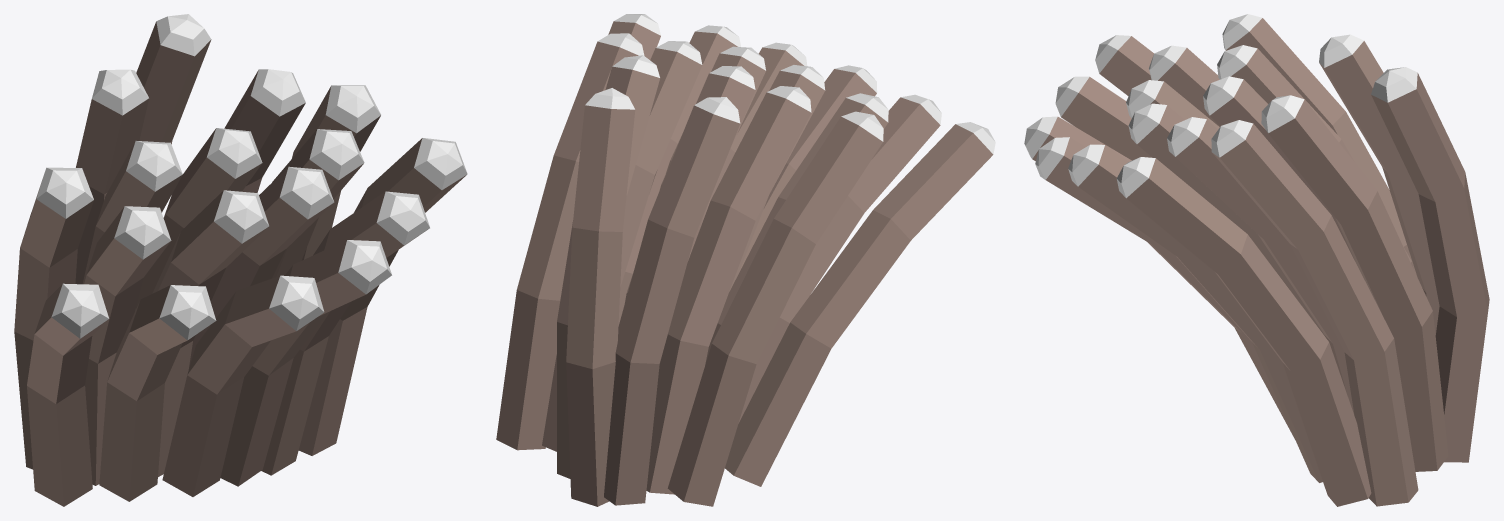
Rendered from Coral_032.glb.
3 views of the same model, side by side, from view 1: azimuth 30°, elevation 25°; view 2: azimuth 150°, elevation 25°; view 3: azimuth 270°, elevation 25° (orthographic). The views are drawn at different scales.
Visible parts, largest first — view 1: Coral_032; view 2: Coral_032; view 3: Coral_032.
Boxes of the visible parts, x1,y1,x2,y2 form: Coral_032: (14,14,467,506); Coral_032: (496,14,995,506); Coral_032: (1024,14,1489,506).
Bounding box in the file's own units: 0.5914 × 0.5924 × 0.6373.
Materials: 1 (1 with a texture image).
